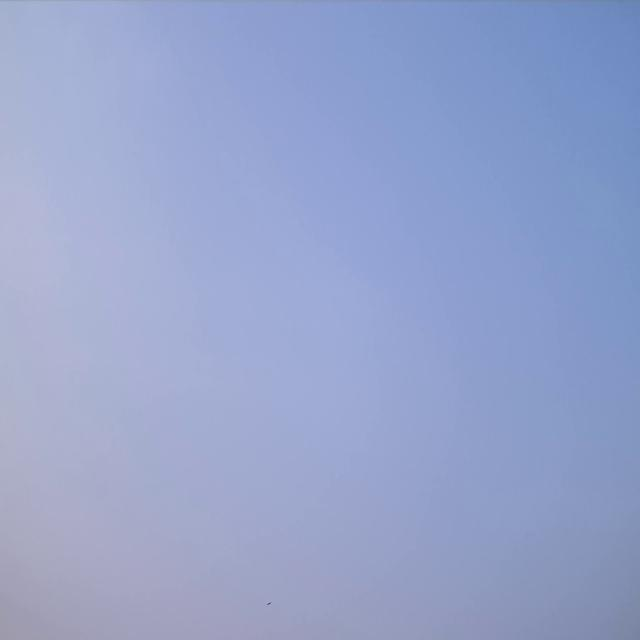UAV: (267, 600, 271, 606)
